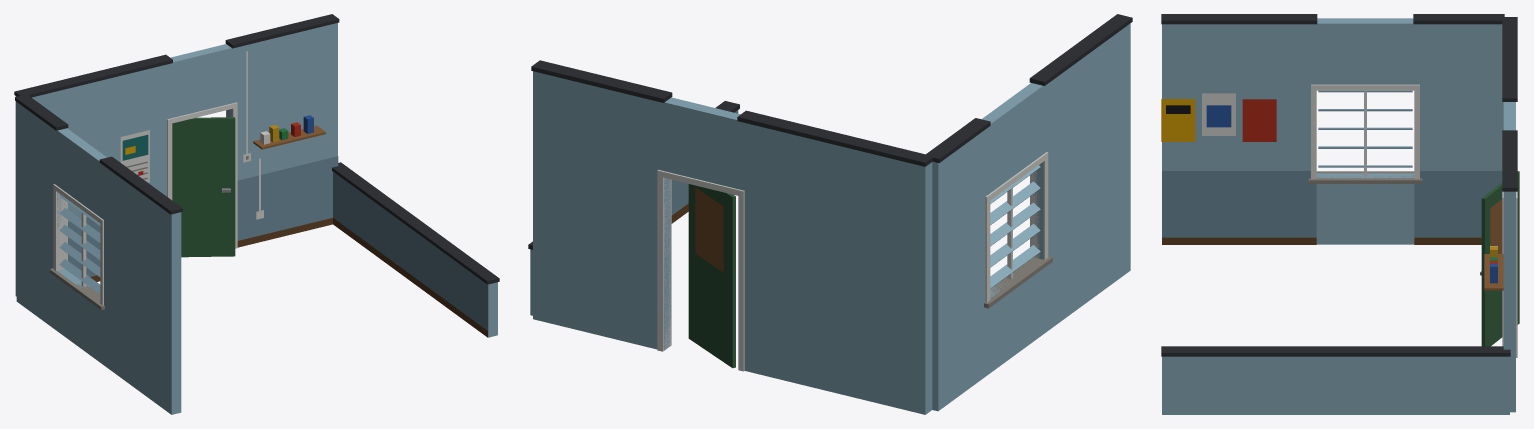
The model's file is bld_home-room-room.glb.
3 renders of one model, left to right at view 1: azimuth 30°, elevation 25°; view 2: azimuth 150°, elevation 25°; view 3: azimuth 270°, elevation 25°, orthographic. The views are drawn at different scales.
Visible parts, largest first — view 1: body; view 2: body; view 3: body.
Part boxes in pixels (<box>): body: <box>14,14,499,414</box>; body: <box>528,14,1132,414</box>; body: <box>1161,14,1519,414</box>.
Size of the model in its own units: 5.18 by 3.05 by 4.41.
